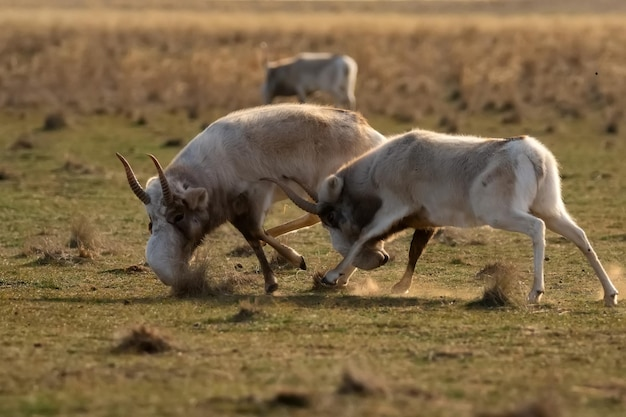saiga: (101, 118, 383, 283)
